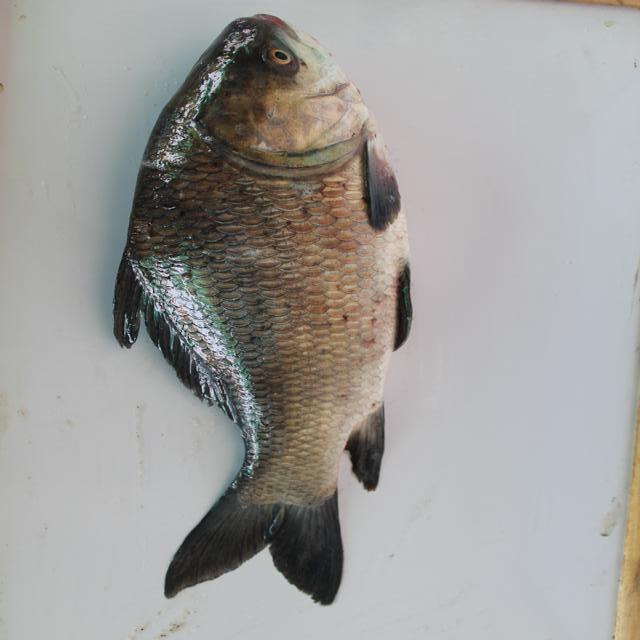Catla: (105, 11, 422, 619)
